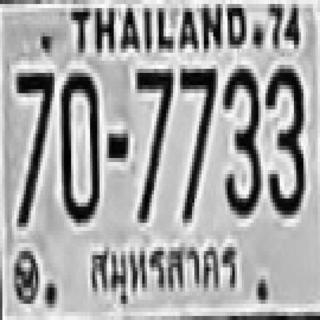N00: (59, 69, 97, 219)
N03: (263, 65, 303, 211), (223, 65, 258, 211)
N07: (14, 69, 52, 223), (178, 65, 216, 219), (135, 65, 171, 219), (14, 67, 52, 192)
P58: (84, 239, 243, 308)
